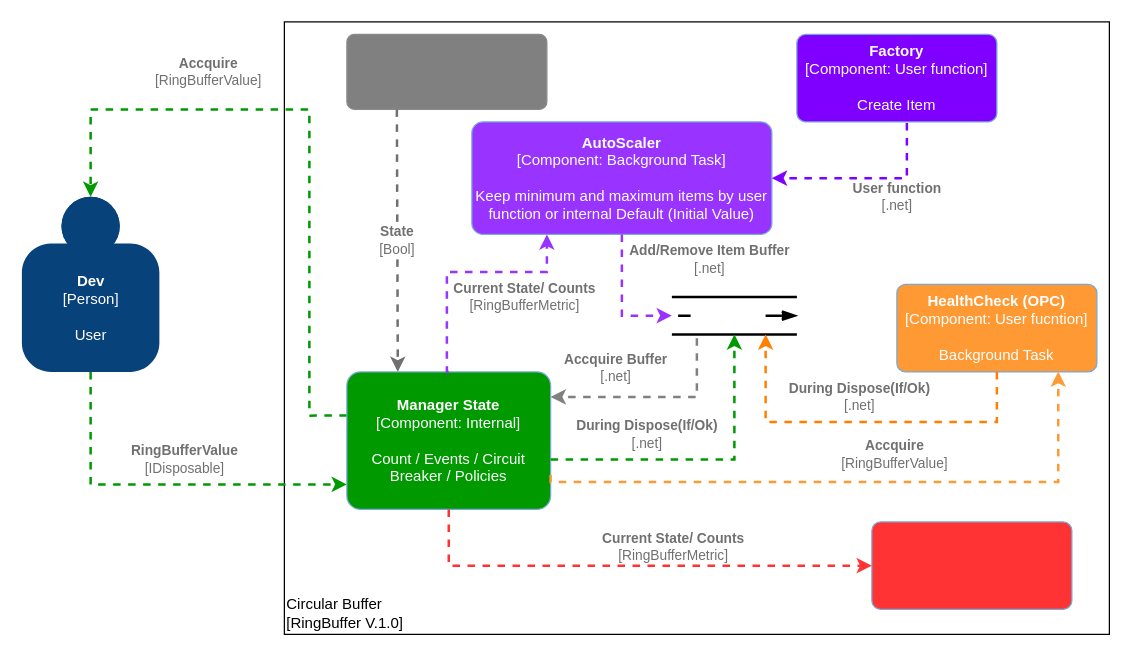
Some shapes in this 1131 by 656 pixel diagram are drawn without their labels. Here are the shapes that lost their labels. From the top down, the centre of each, then its label:
At (446,71): "External State (OPC) [Software System] User function to Open Circuit".
At (734,315): "FIFO".
At (971,565): "MetricsReport (OPC) [Component: User Function] Background Task".
